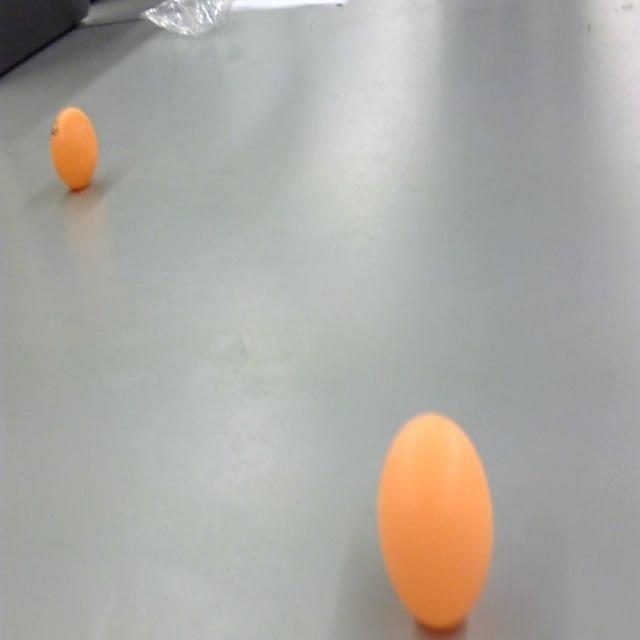ball: (375, 408, 494, 628), (49, 101, 98, 196)
